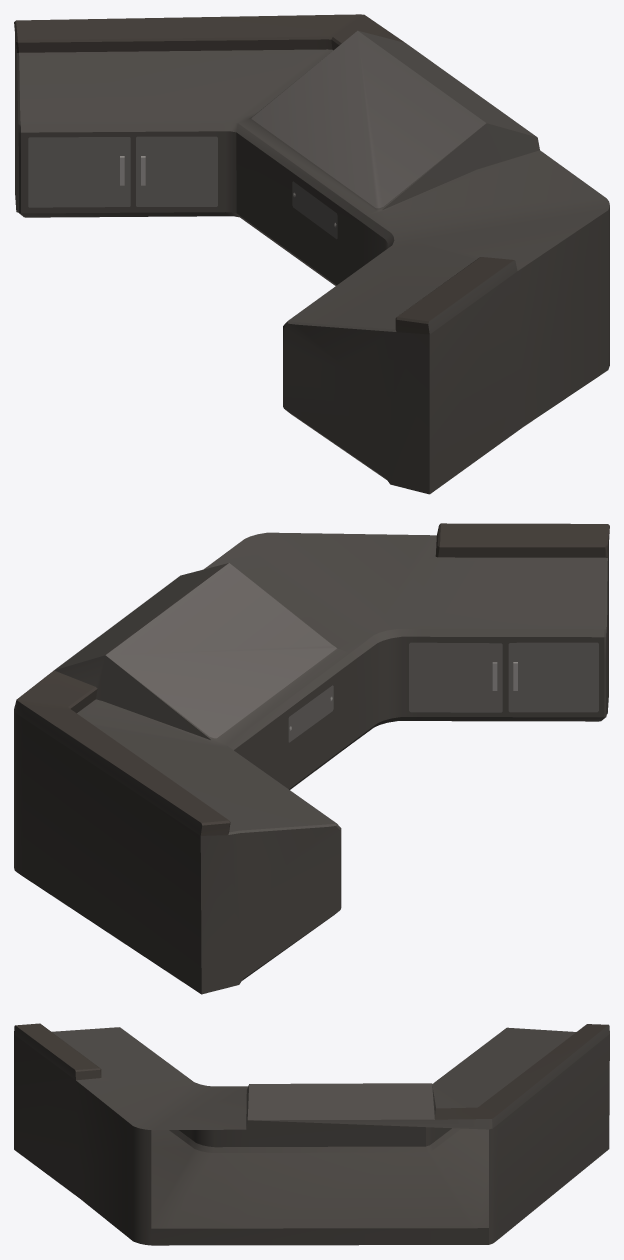
Rendered from Desk01.fbx.
3 renders of one model, top to bottom at view 1: azimuth 30°, elevation 25°; view 2: azimuth 150°, elevation 25°; view 3: azimuth 270°, elevation 25°, orthographic. The views are drawn at different scales.
Parts seen in each view (by area): view 1: Desk_base_V4; view 2: Desk_base_V4; view 3: Desk_base_V4.
Boxes of the visible parts, bbox=[...] form: Desk_base_V4: bbox=[14, 14, 609, 494]; Desk_base_V4: bbox=[14, 523, 609, 994]; Desk_base_V4: bbox=[14, 1023, 609, 1245].
Bounding box in the file's own units: 1.37 × 0.756 × 2.85.
